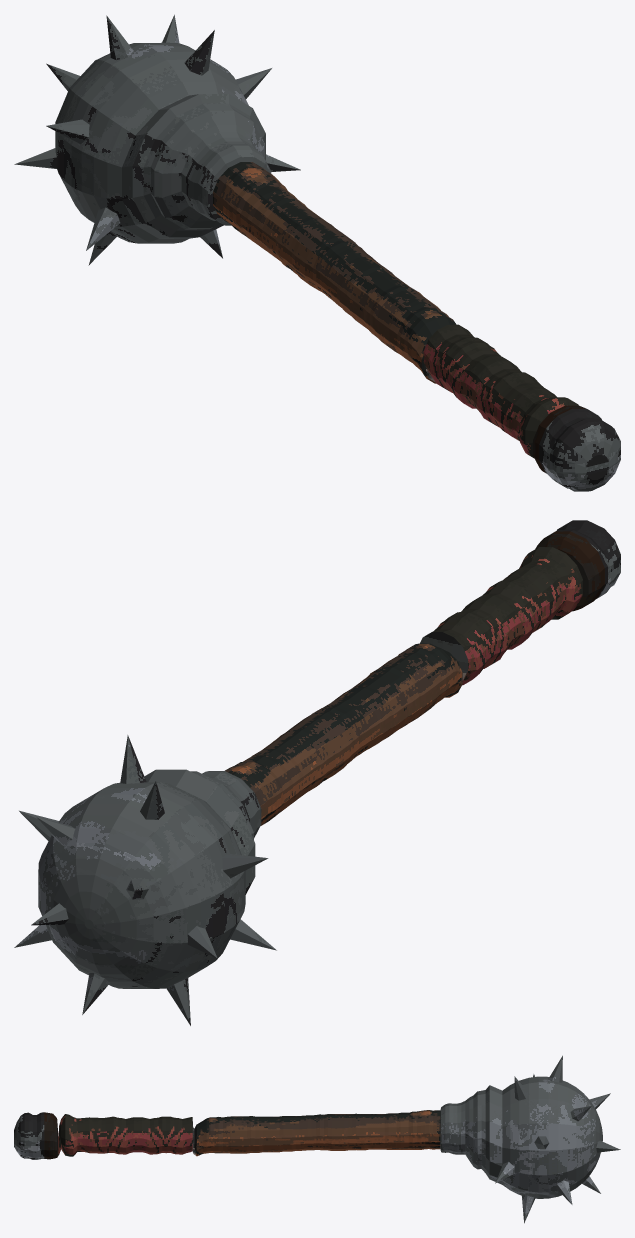
File: club.glb
The picture shows the model from 3 angles, top to bottom: view 1: azimuth 30°, elevation 25°; view 2: azimuth 150°, elevation 25°; view 3: azimuth 270°, elevation 25°; orthographic projection. The views are drawn at different scales.
Visible parts, largest first — view 1: head, haft, grip, butt; view 2: head, haft, grip, band, butt, ring; view 3: head, haft, grip, butt, band.
Part boxes in pixels (box(x1,y1,x2,y2)): head: box(14, 14, 300, 265); haft: box(213, 162, 456, 383); grip: box(423, 324, 578, 458); butt: box(539, 408, 620, 491); head: box(14, 735, 276, 1025); haft: box(225, 643, 462, 825); grip: box(432, 547, 582, 685); band: box(535, 531, 604, 611); butt: box(556, 520, 620, 598); ring: box(420, 632, 467, 680); head: box(440, 1055, 620, 1223); haft: box(196, 1110, 440, 1156); grip: box(58, 1114, 192, 1156); butt: box(14, 1112, 44, 1159); band: box(44, 1112, 58, 1159).
Bounding box in the file's own units: 0.1878 × 0.1838 × 0.7031.
Materials: 2 (2 with a texture image).
